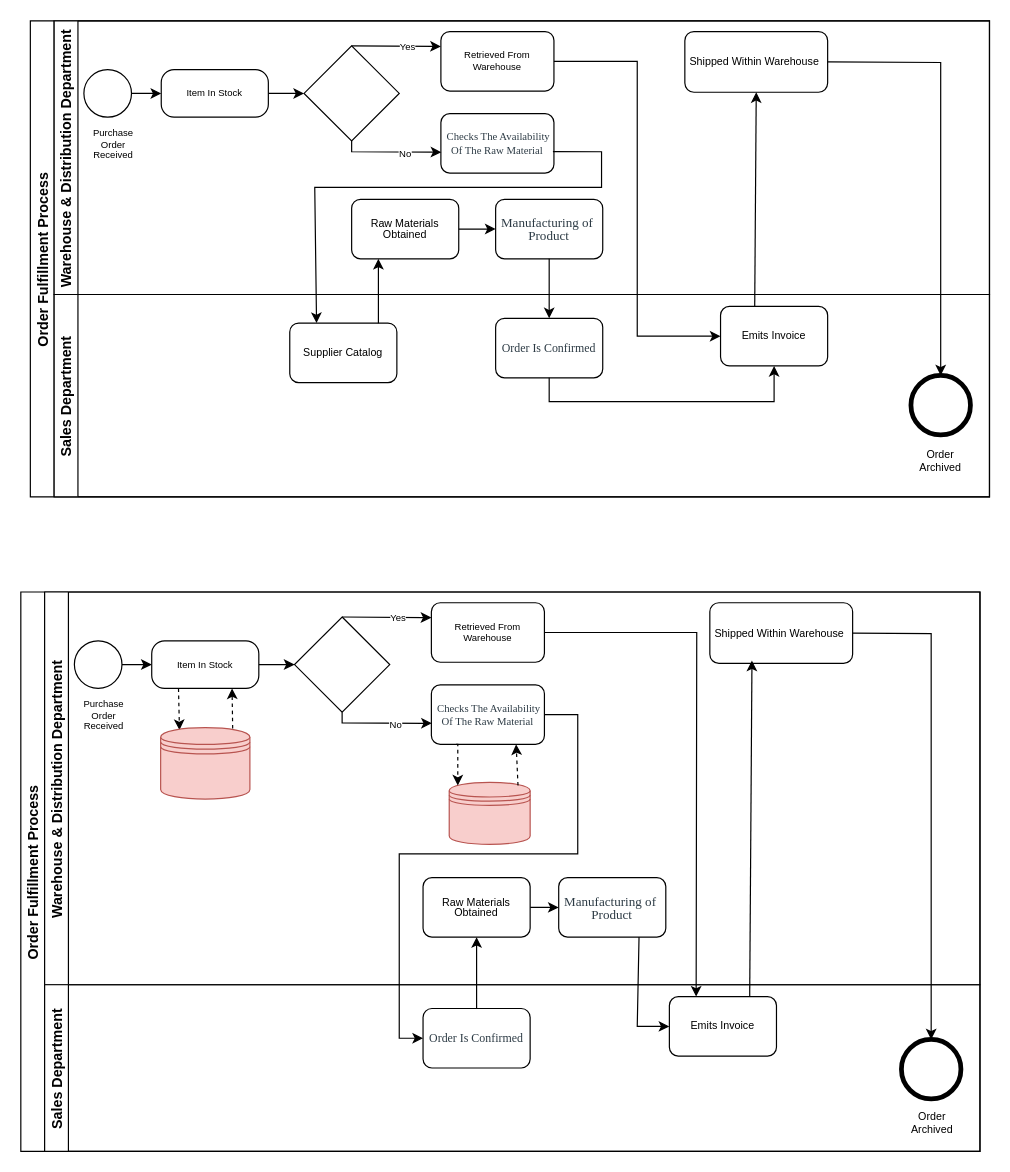
This 1010x1172 diagram has some shape labels left out. The shapes that lost their labels are listed below. From the top down, each one's box as (x1, y1, x2, y2) in pixels, then its label:
(159, 726, 250, 799): Stock Database
(448, 781, 530, 844): Raw Material Database
